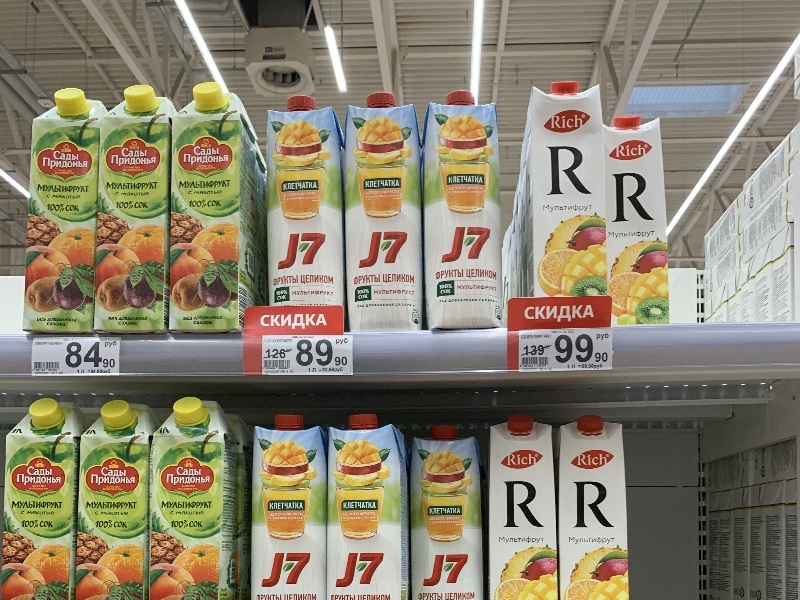juice: (10, 85, 115, 347), (161, 82, 253, 348), (96, 84, 187, 348), (419, 86, 512, 340), (340, 85, 431, 340), (136, 398, 251, 598), (252, 95, 352, 313), (517, 76, 613, 303), (239, 411, 339, 597), (399, 416, 500, 597), (73, 393, 160, 599), (545, 403, 636, 599), (320, 411, 413, 599), (604, 113, 681, 337), (1, 393, 77, 599), (484, 412, 563, 599)
